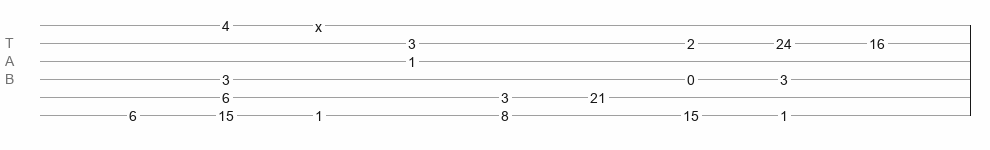0: (687, 72, 695, 82)
1: (315, 108, 323, 118), (408, 54, 416, 64), (780, 108, 788, 118)
15: (218, 108, 234, 118), (683, 108, 699, 118)
16: (869, 36, 885, 46)
2: (687, 36, 695, 46)
21: (590, 90, 606, 100)
24: (776, 36, 792, 46)
3: (222, 72, 230, 82), (408, 36, 416, 46), (501, 90, 509, 100), (780, 72, 788, 82)
4: (222, 18, 230, 28)
6: (129, 108, 137, 118), (222, 90, 230, 100)
8: (501, 108, 509, 118)
x: (315, 19, 322, 27)
